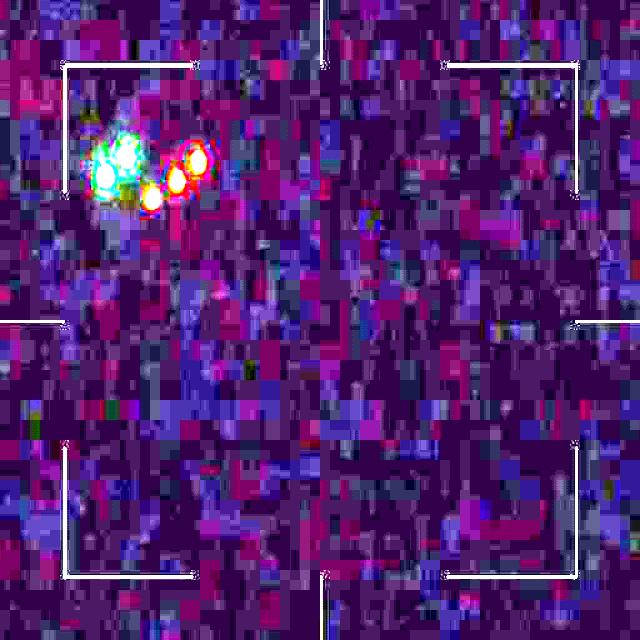bird: (95, 142, 205, 209)
